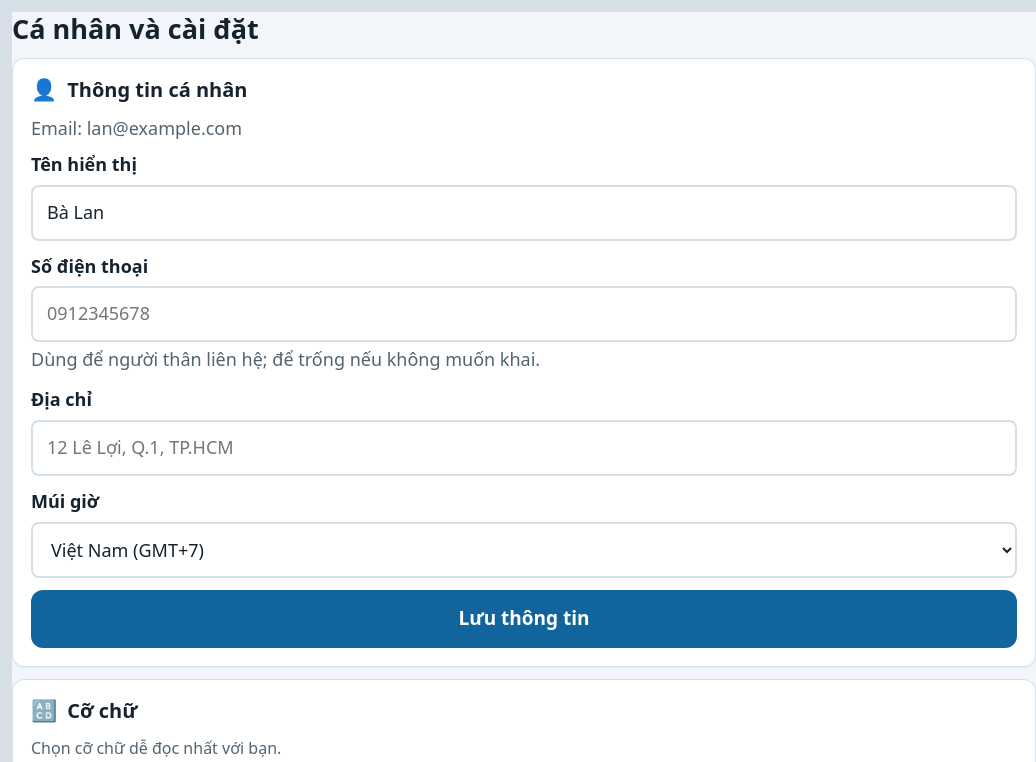
Test: M08 — tài khoản › API lỗi → hiện thông báo lỗi từ server
Step 1. Click the button "Lưu thông tin" → click(524, 619), box [31,590,1017,648]
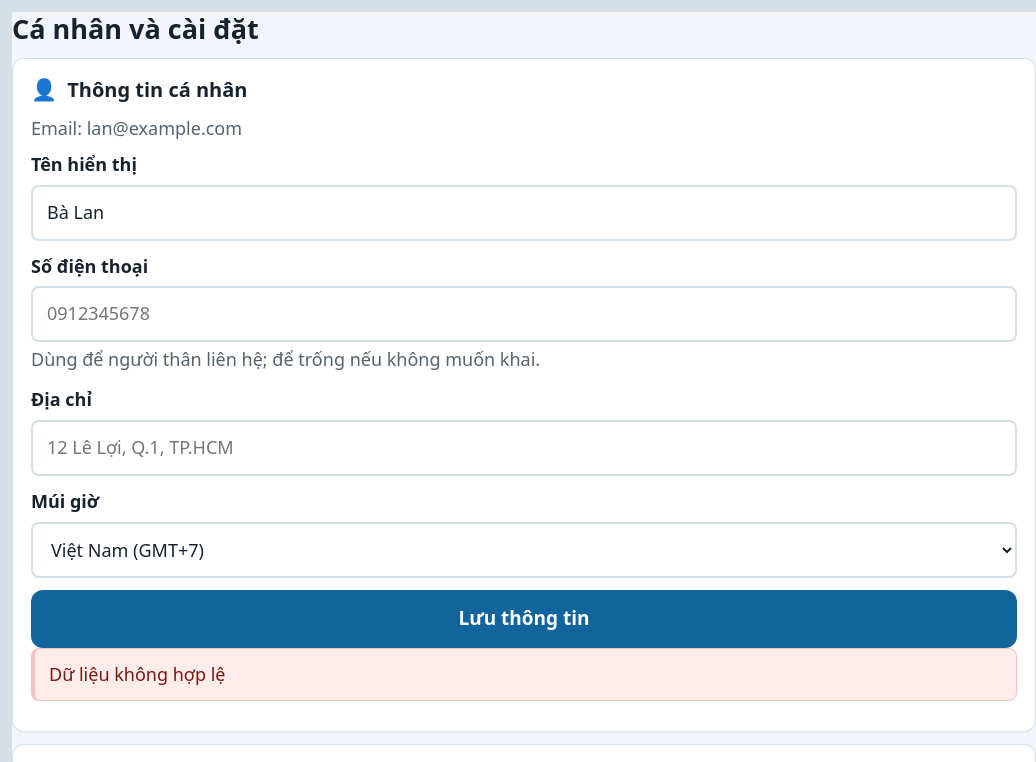
Check: the text "Dữ liệu không hợp lệ" is shown, box [49,662,226,686]
